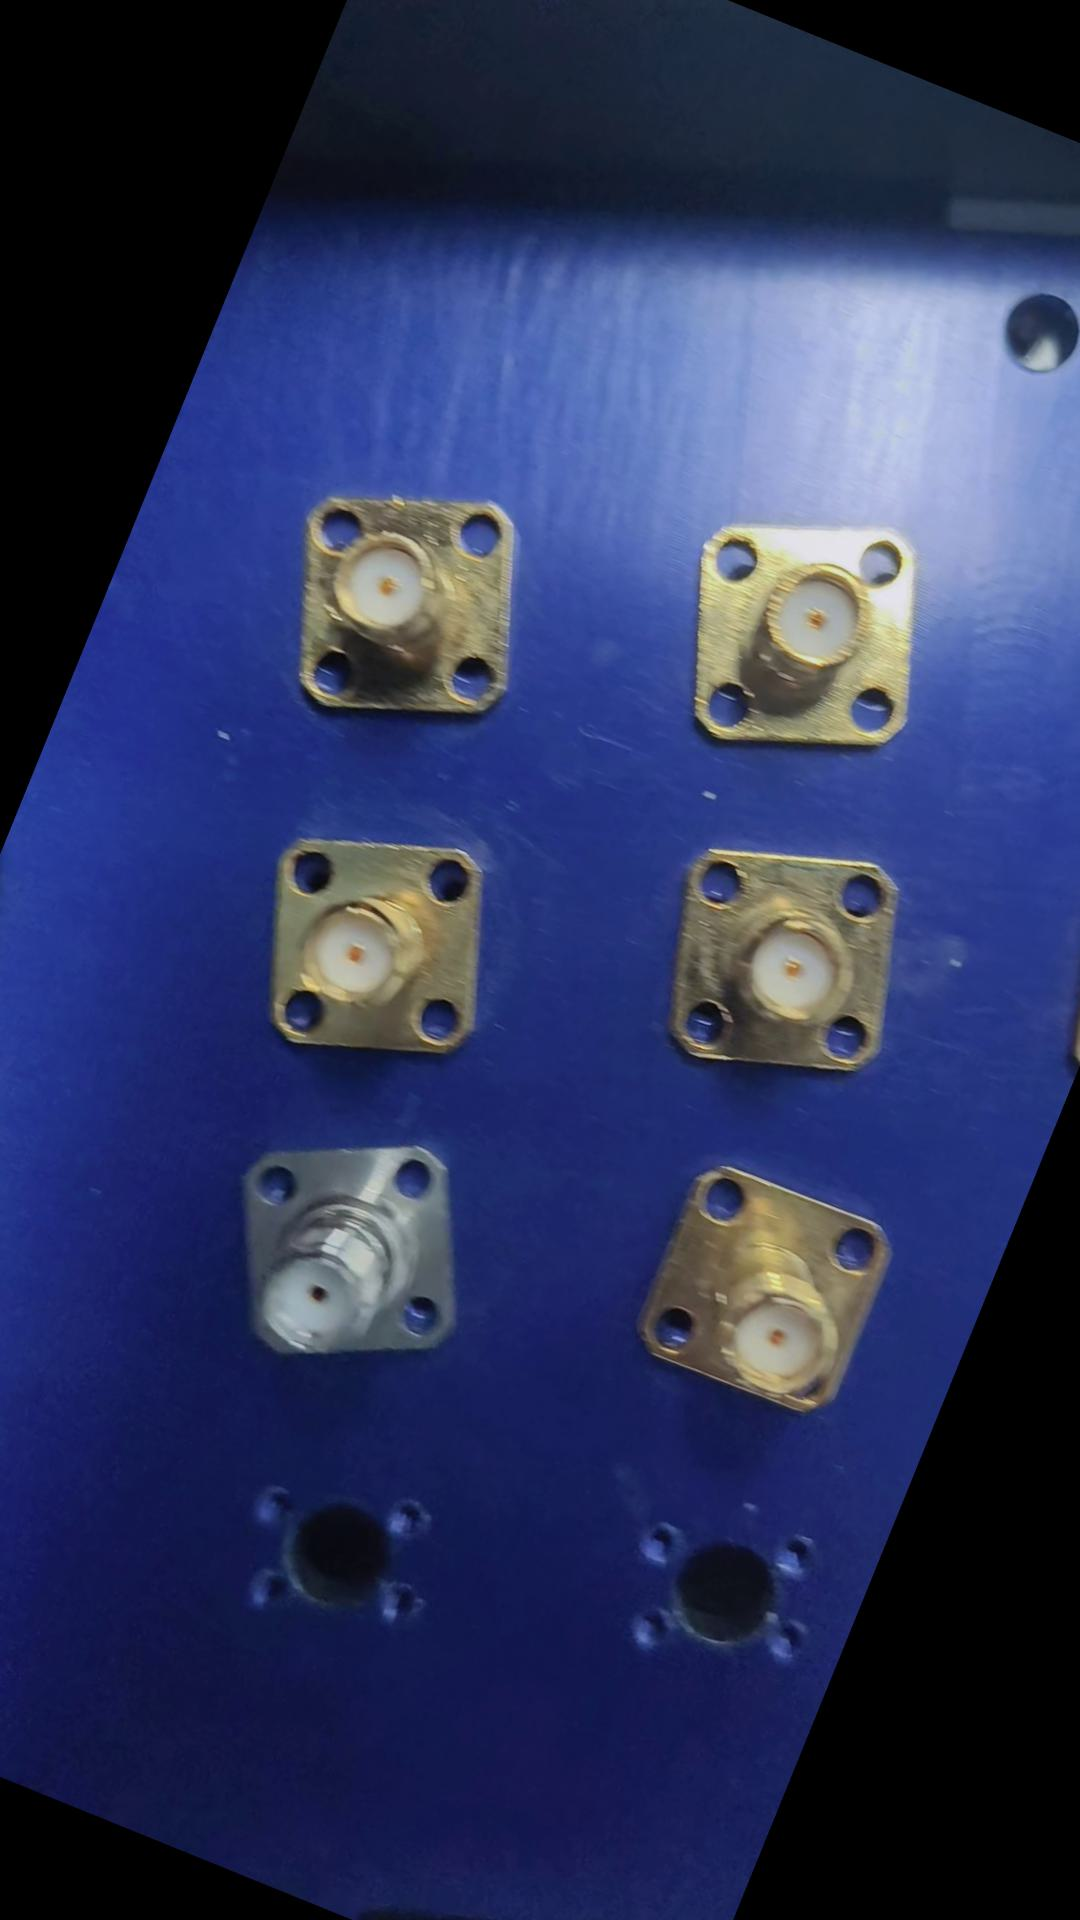SMA: (633, 462, 977, 804), (237, 433, 572, 767), (189, 1091, 518, 1419), (624, 800, 947, 1127), (222, 790, 542, 1109), (622, 1146, 913, 1435)
